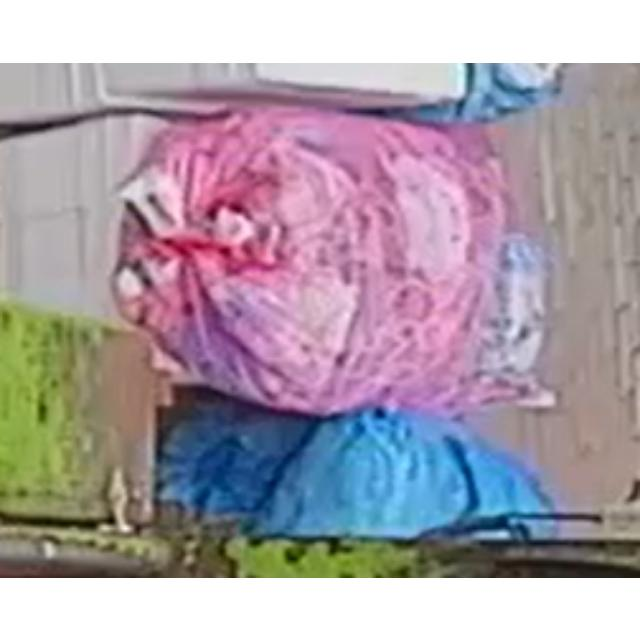other_trashbag: (111, 107, 536, 414), (161, 400, 548, 538)
